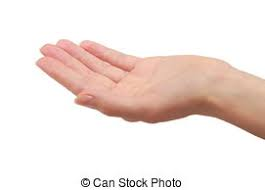palm: (123, 57, 196, 117)
